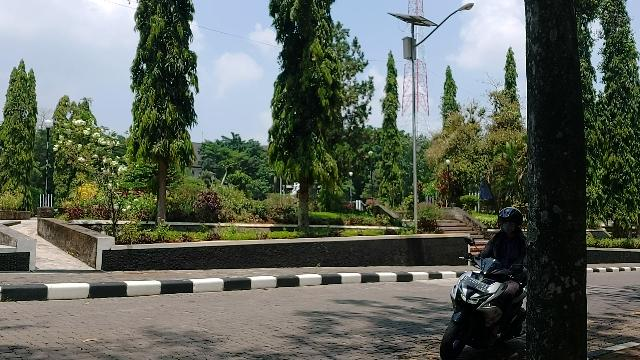helm: (498, 208, 524, 237)
motor: (439, 236, 528, 360)
